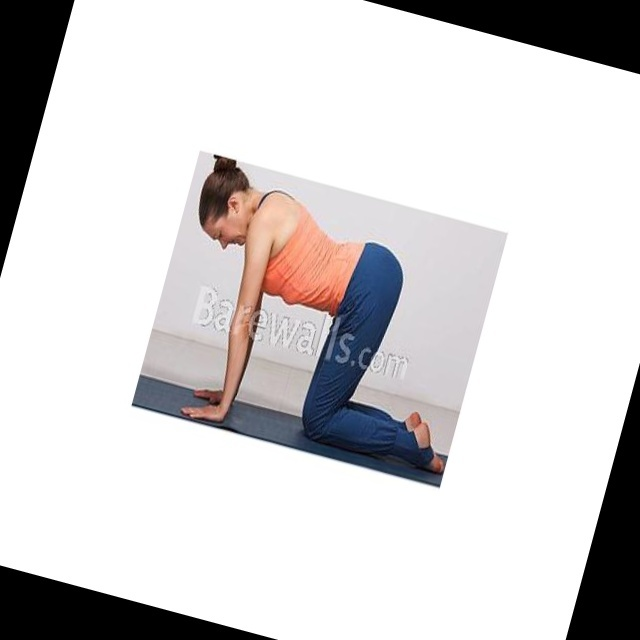Cow_Pose: (180, 154, 446, 476)
